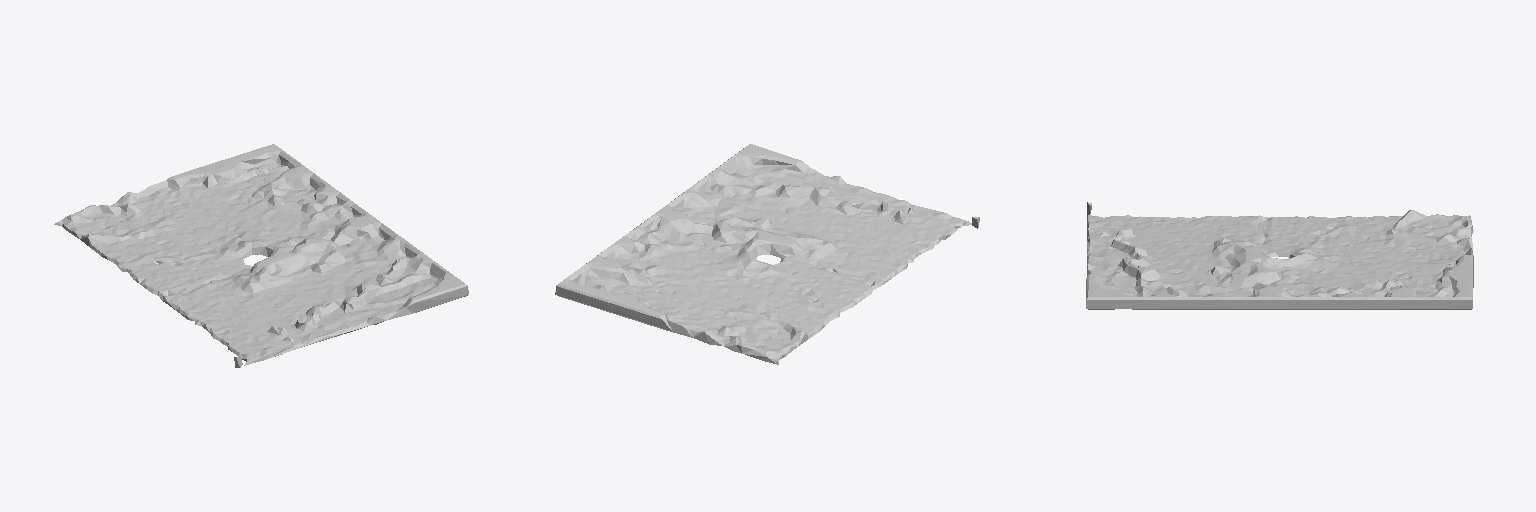
3 views of the same model, side by side, from view 1: azimuth 30°, elevation 25°; view 2: azimuth 150°, elevation 25°; view 3: azimuth 270°, elevation 25° (orthographic).
Visible parts, largest first — view 1: Liquid_Domain; view 2: Liquid_Domain; view 3: Liquid_Domain.
Boxes of the visible parts, box(x1,y1,x2,y2) form: Liquid_Domain: box(54, 144, 468, 367); Liquid_Domain: box(555, 144, 979, 364); Liquid_Domain: box(1086, 202, 1473, 309).
Size of the model in its own units: 116 by 13.7 by 168.